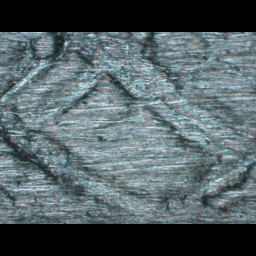d: (0, 34, 253, 206)
